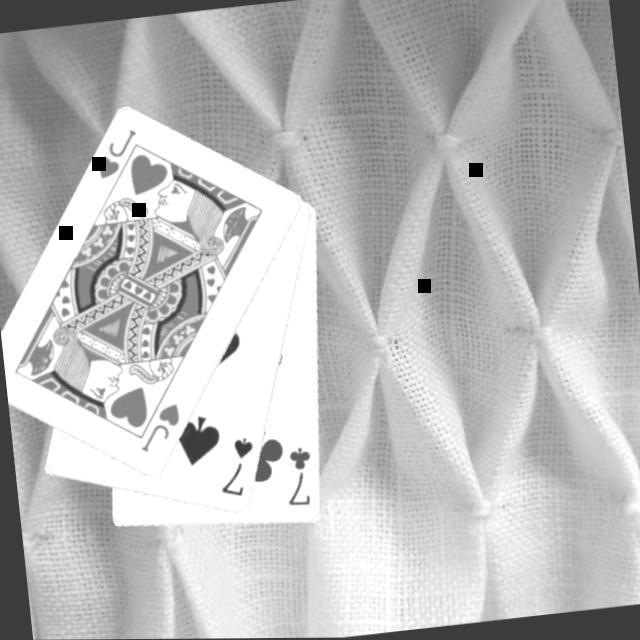7C: (280, 444, 320, 512)
7S: (214, 434, 263, 503)
JH: (134, 400, 188, 457), (91, 126, 144, 183)
